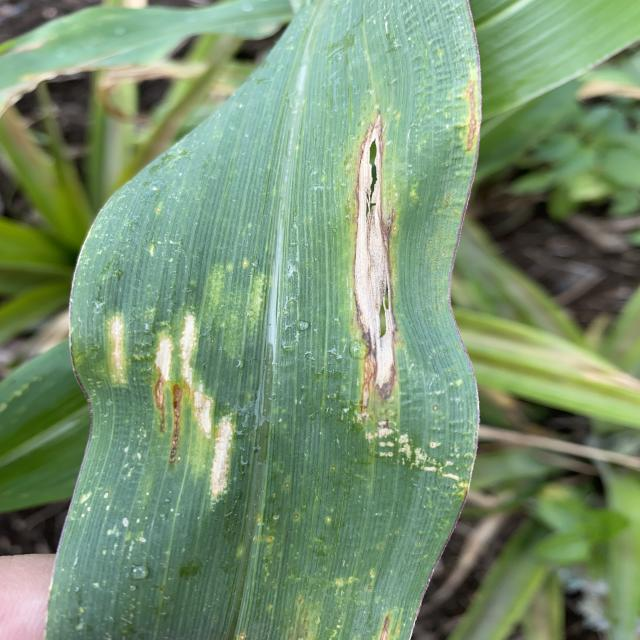Corn_Leaf_Blight: (78, 0, 478, 640)
